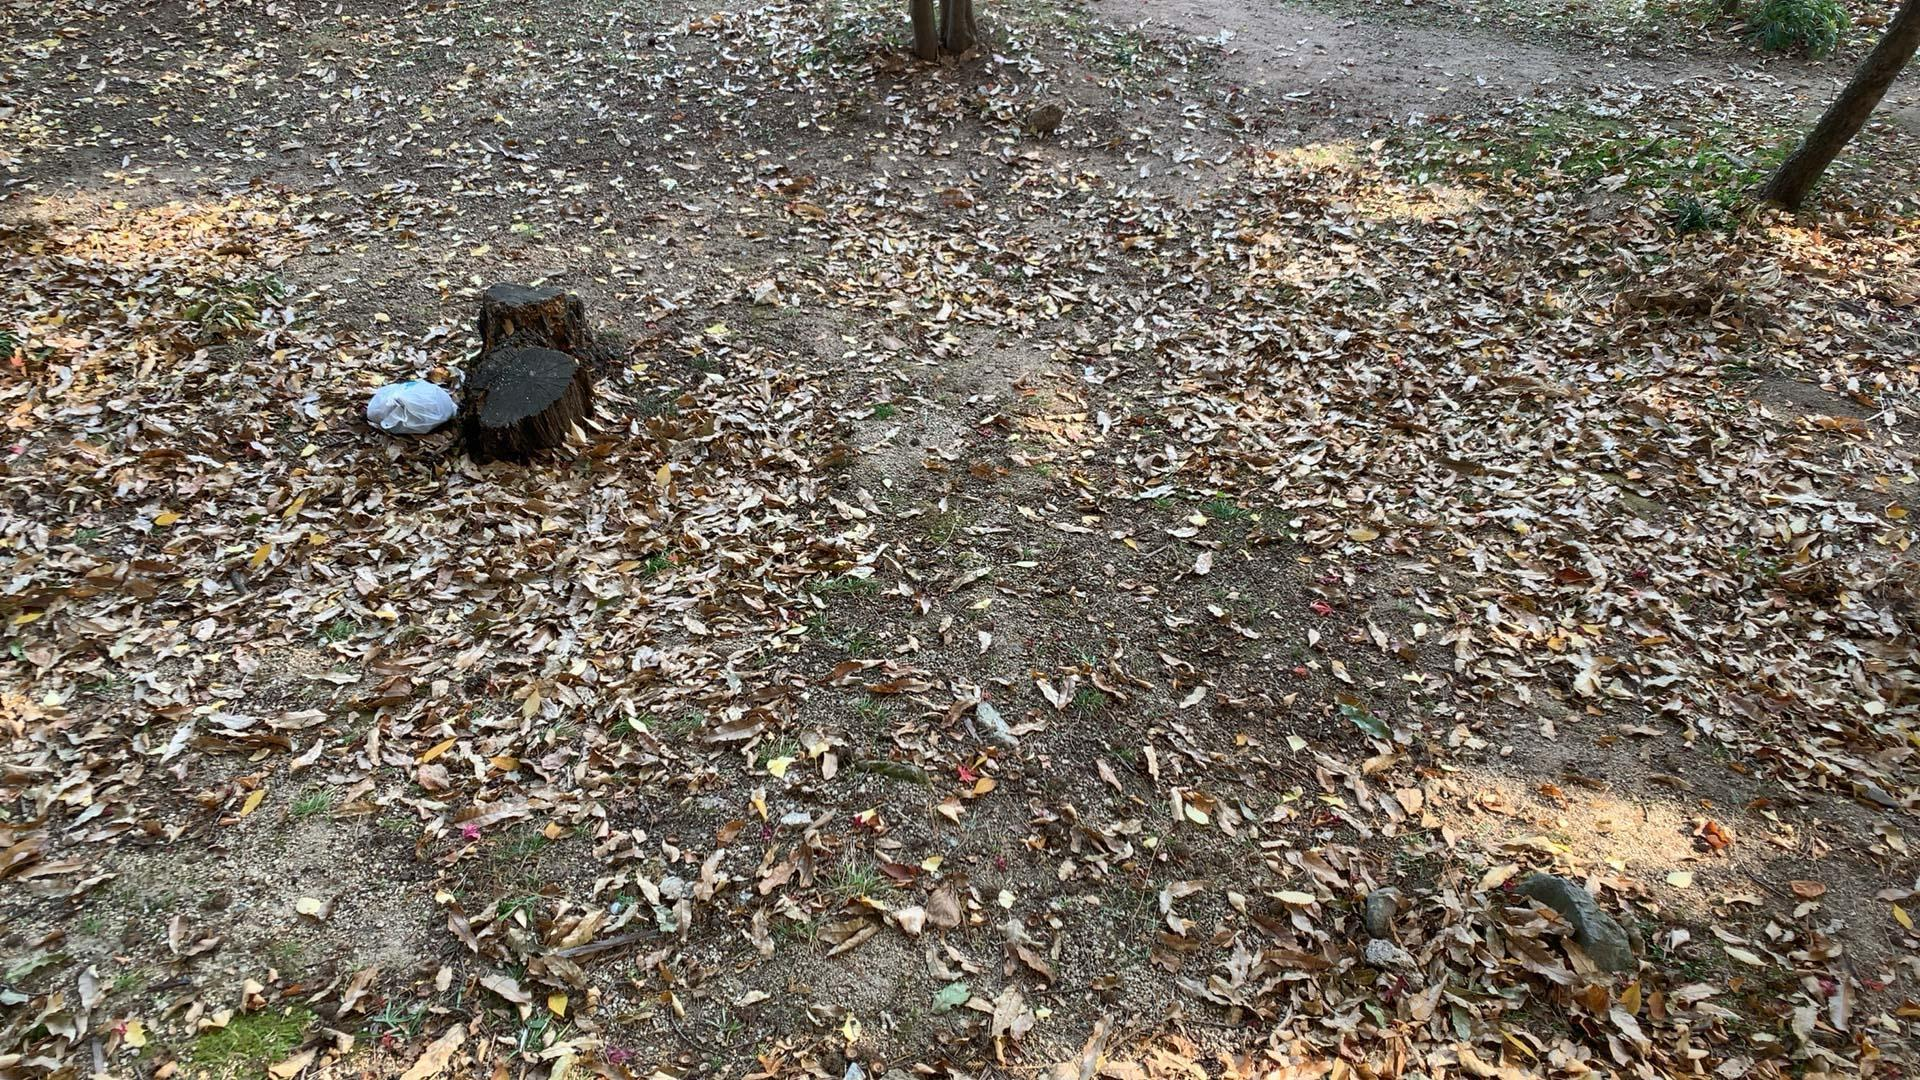white_bag: (363, 378, 462, 436)
